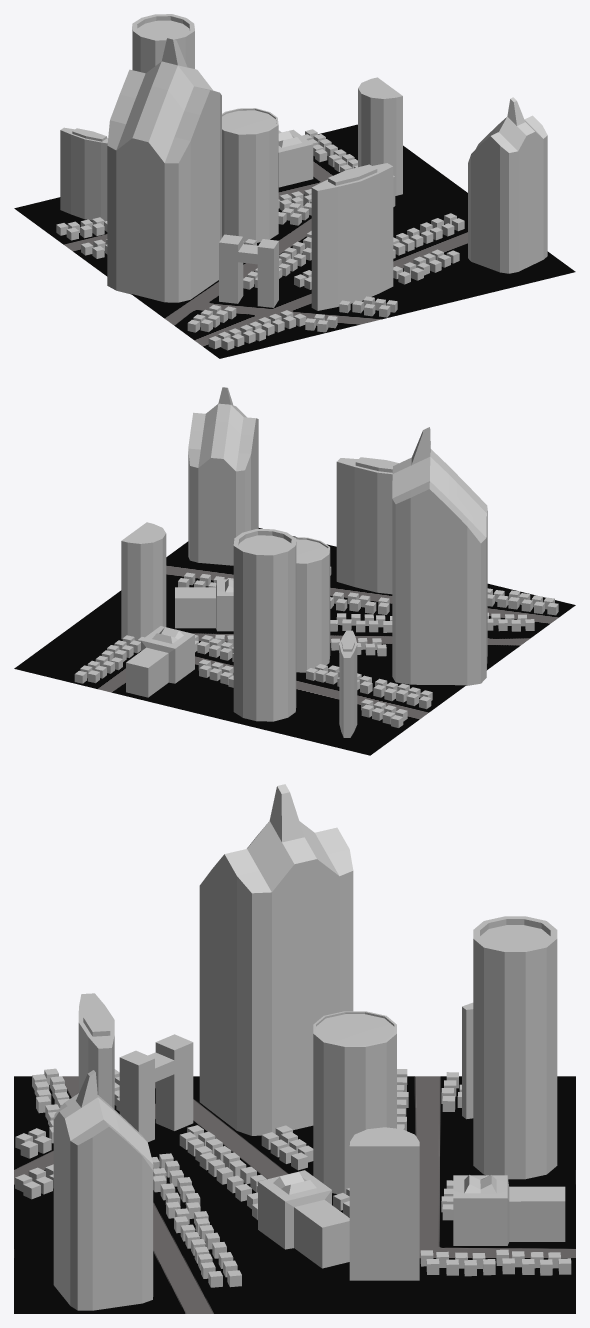
The model's file is Map Textured post bake.fbx.
The picture shows the model from 3 angles, top to bottom: view 1: azimuth 30°, elevation 25°; view 2: azimuth 150°, elevation 25°; view 3: azimuth 270°, elevation 25°; orthographic projection. The views are drawn at different scales.
Visible parts, largest first — view 1: Cube.010, Plane, Cube.195, Cube.003, Cube.006, Cube.008, Cylinder, Cube.004, Cube.009, Cube.001; view 2: Plane, Cube.010, Cube.009, Cube.195, Cube.003, Cylinder, Cube.006, Cube.001, Cube, Cube.008; view 3: Plane, Cube.010, Cube.009, Cube.195, Cube.006, Cylinder, Cube.001, Cube, Cube.004, Cube.003, Cube.008.
Boxes of the visible parts, x1,y1,x2,y2 form: Cube.010: (107, 38, 221, 302); Plane: (14, 124, 575, 358); Cube.195: (468, 97, 547, 273); Cube.003: (311, 163, 393, 310); Cube.006: (222, 108, 278, 243); Cube.008: (60, 127, 108, 221); Cylinder: (358, 77, 402, 195); Cube.004: (219, 234, 278, 307); Cube.009: (132, 14, 194, 73); Cube.001: (278, 129, 313, 187); Plane: (14, 528, 575, 755); Cube.010: (392, 427, 487, 685); Cube.009: (233, 529, 296, 721); Cube.195: (188, 387, 258, 565); Cube.003: (336, 457, 398, 594); Cylinder: (121, 522, 166, 640); Cube.006: (295, 537, 330, 672); Cube.001: (126, 626, 194, 697); Cube: (175, 579, 233, 631); Cube.008: (339, 630, 357, 737); Plane: (14, 1076, 575, 1313); Cube.010: (199, 784, 353, 1135); Cube.009: (473, 916, 557, 1179); Cube.195: (53, 1070, 153, 1310); Cube.006: (313, 1011, 396, 1194); Cylinder: (349, 1127, 419, 1280); Cube.001: (453, 1175, 565, 1245); Cube: (258, 1170, 349, 1268); Cube.004: (119, 1034, 193, 1141); Cube.003: (78, 993, 114, 1109); Cube.008: (462, 1002, 473, 1119).
Size of the model in its own units: 20479 by 12831 by 19997.
